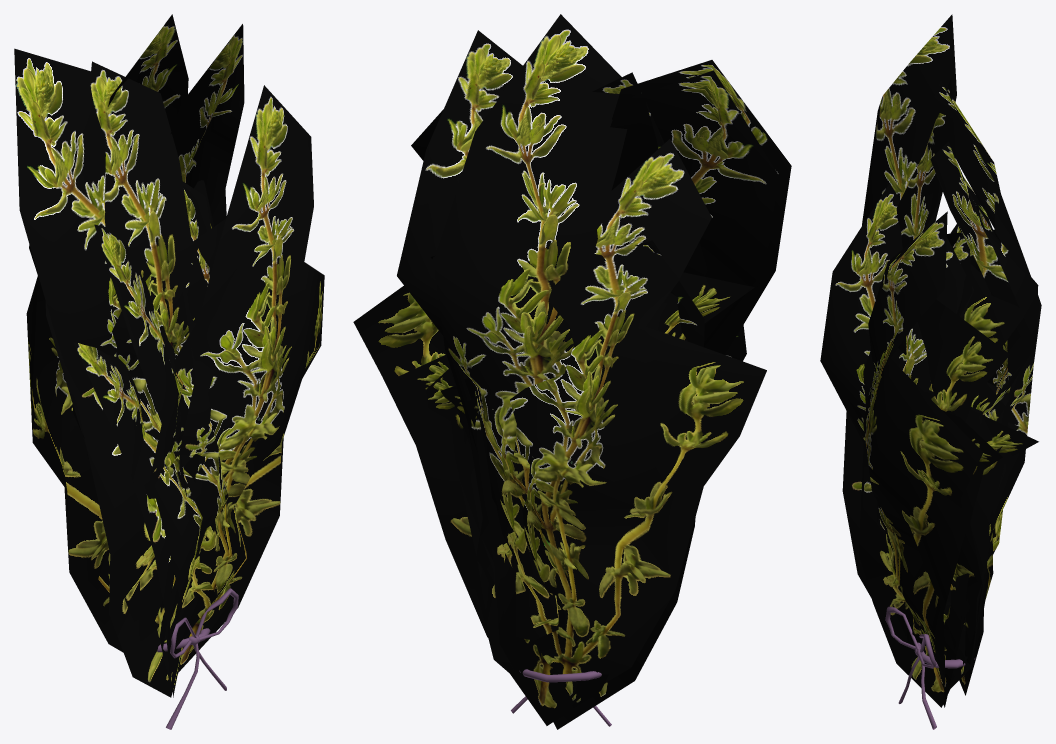
Rendered from flower.glb.
3 views of the same model, side by side, from view 1: azimuth 30°, elevation 25°; view 2: azimuth 150°, elevation 25°; view 3: azimuth 270°, elevation 25° (orthographic). The views are drawn at different scales.
Parts seen in each view (by area): view 1: Ramillete, Ramillete_Lazo; view 2: Ramillete, Ramillete_Lazo; view 3: Ramillete, Ramillete_Lazo.
Part boxes in pixels (box(x1,y1,x2,y2)): Ramillete: box(14, 14, 324, 697); Ramillete_Lazo: box(157, 588, 238, 729); Ramillete: box(353, 14, 791, 729); Ramillete_Lazo: box(511, 669, 611, 726); Ramillete: box(820, 14, 1041, 707); Ramillete_Lazo: box(885, 606, 975, 729).
Size of the model in its own units: 0.1294 by 0.2365 by 0.0747.
2 materials, 1 textured.
